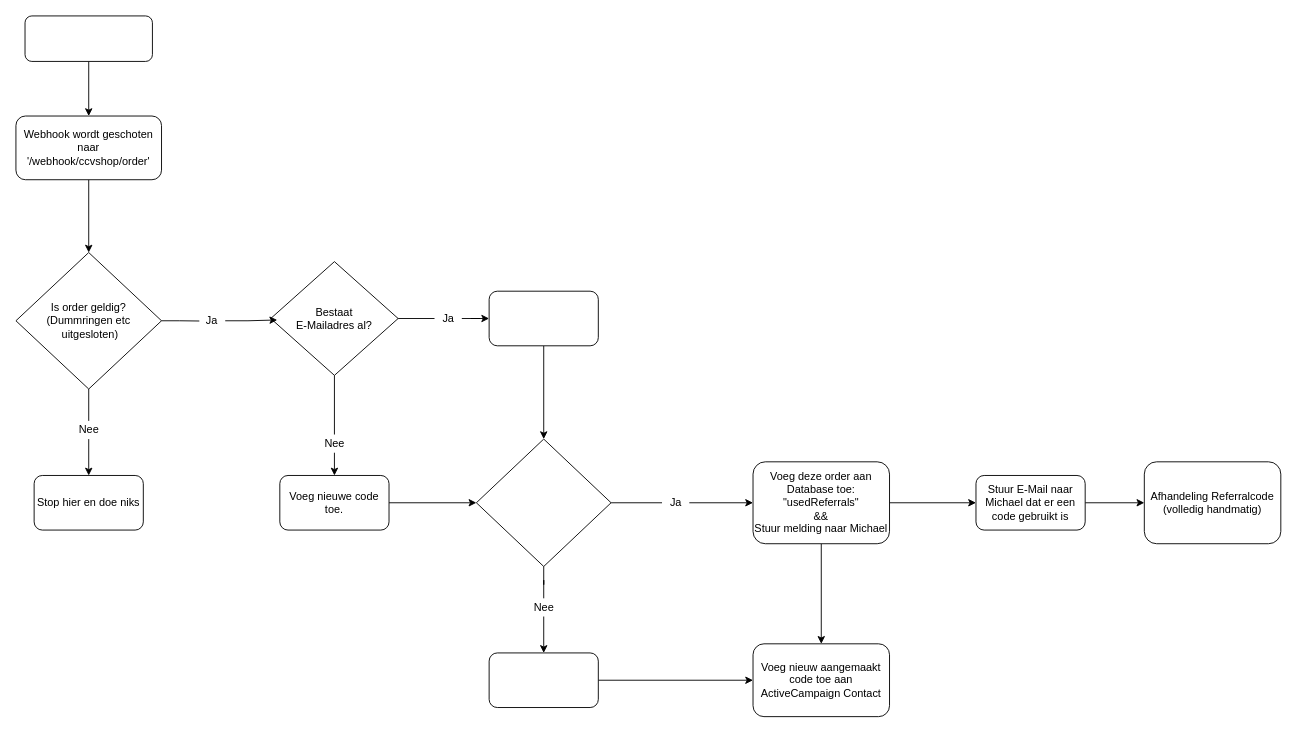
Image size: 1297x733. Some labels were removed from this diagram. Here are the shapes that lost their labels. From the top down, the box of each, then its label:
(24, 15, 152, 61): Order wordt aangemaakt
(488, 290, 598, 346): Retourneer bestaande referral code
(475, 438, 611, 566): Heeft klant een referralcode gebruikt?
(488, 652, 598, 708): Doe niks
